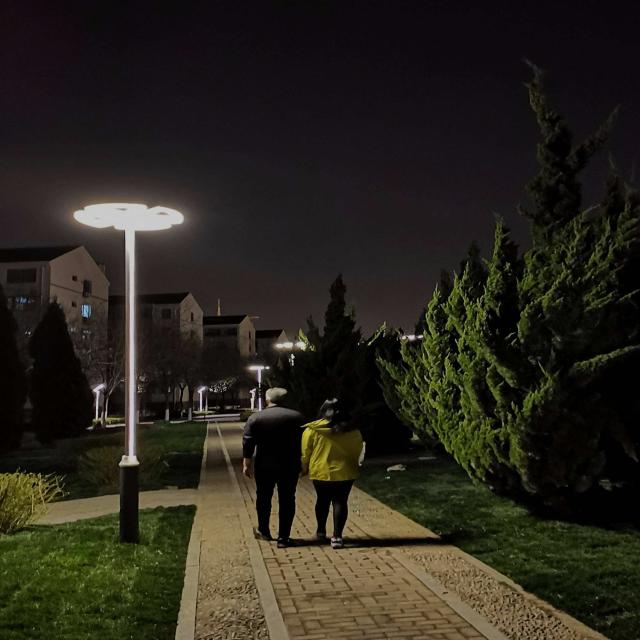non-fight: (238, 381, 302, 546), (307, 399, 366, 539)
